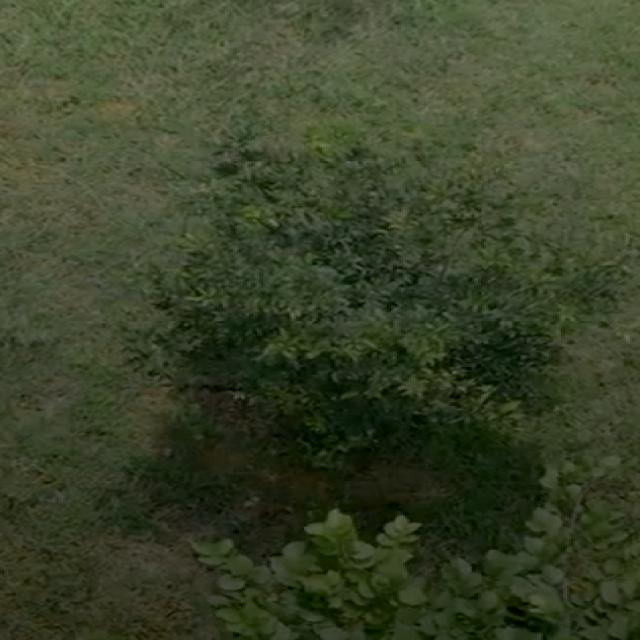notMangoTree: (148, 102, 640, 468), (146, 491, 640, 640)
